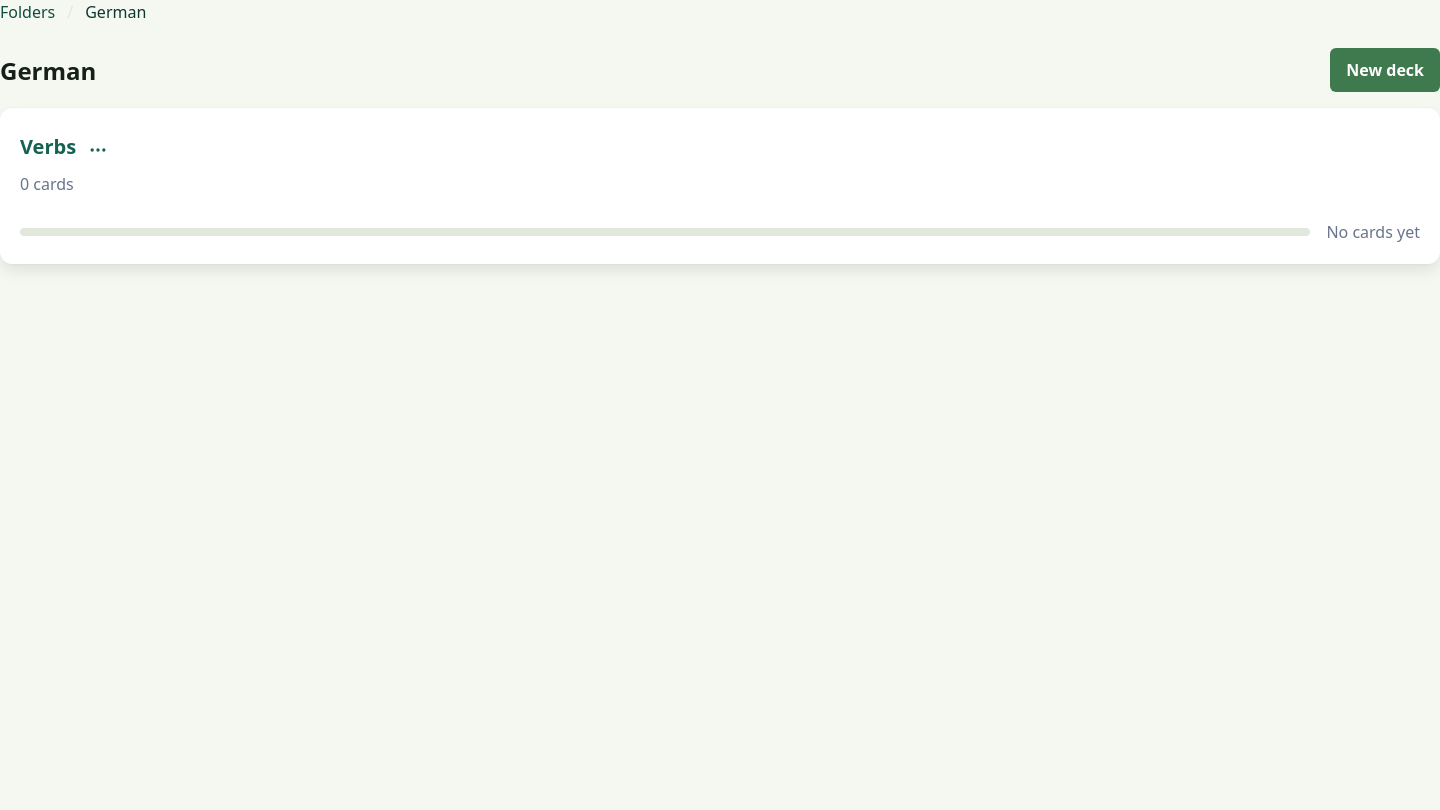
Scenario: FolderView › deletes the deck once the confirmation is accepted
This screenshot has width=1440, height=810.
Click the button with test id "deck-menu": coordinates (98, 150) x1=76 y1=128 x2=120 y2=172
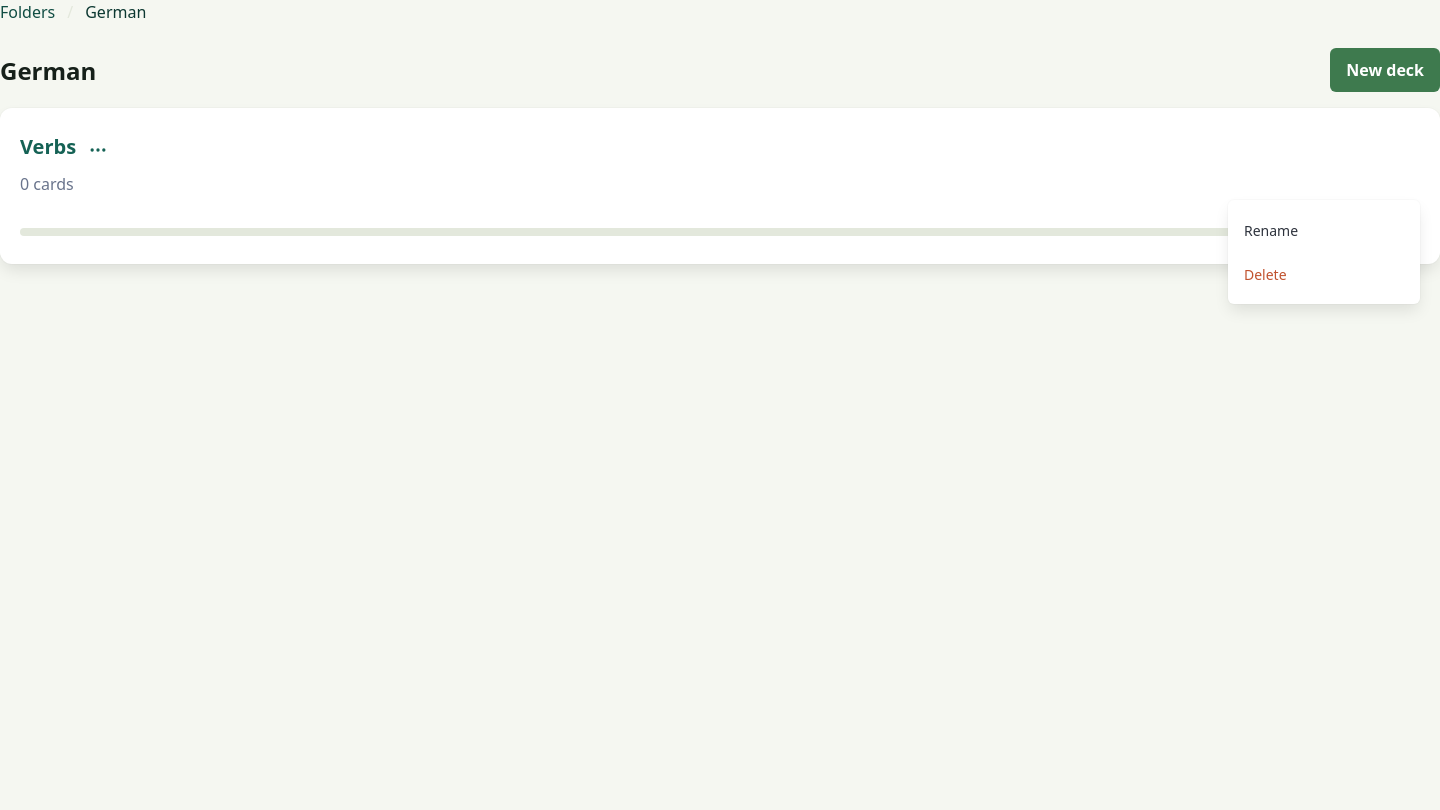
Click the button with test id "deck-delete": coordinates (1324, 274) x1=1228 y1=252 x2=1420 y2=296
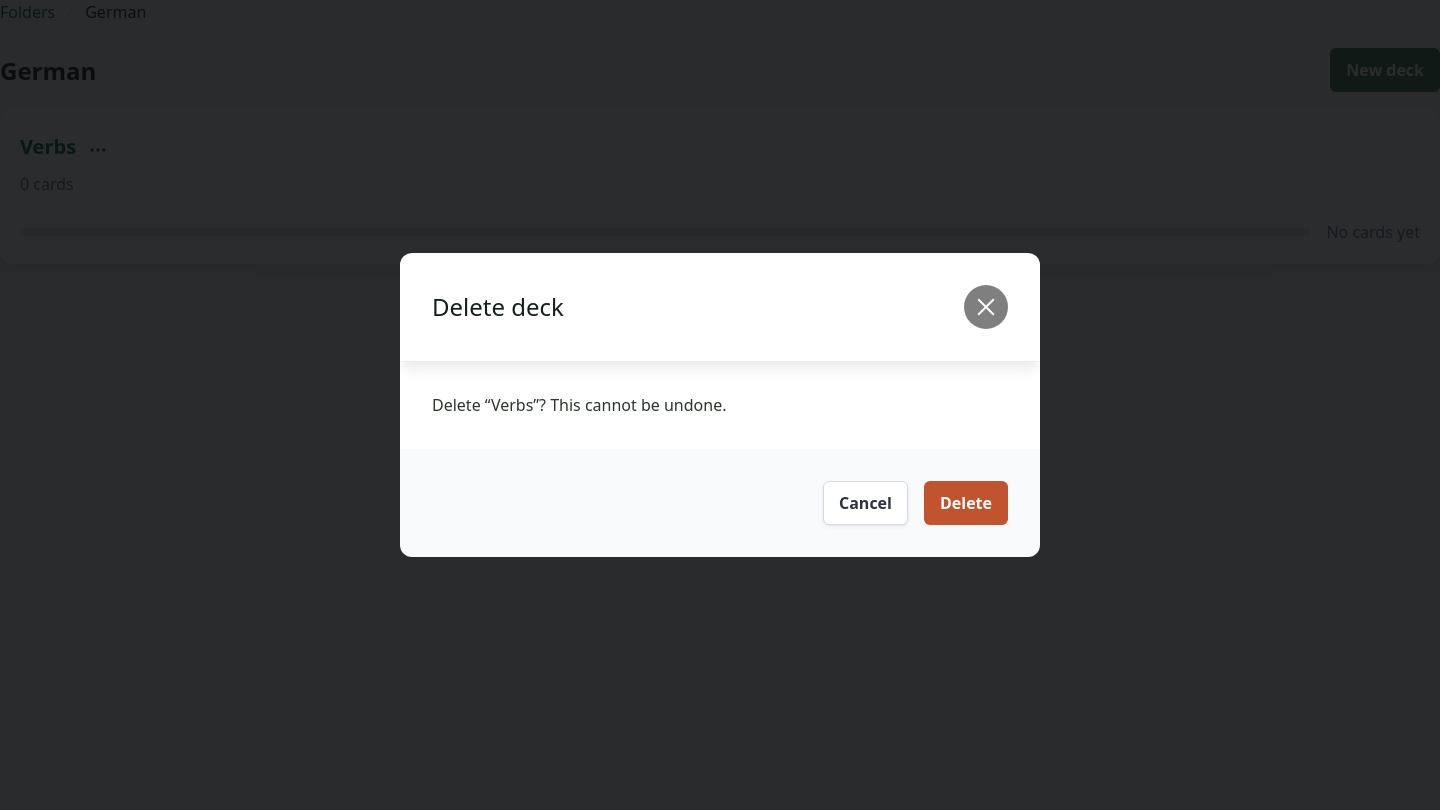
Click the button with test id "confirm-accept": coordinates (966, 503) x1=924 y1=481 x2=1008 y2=525
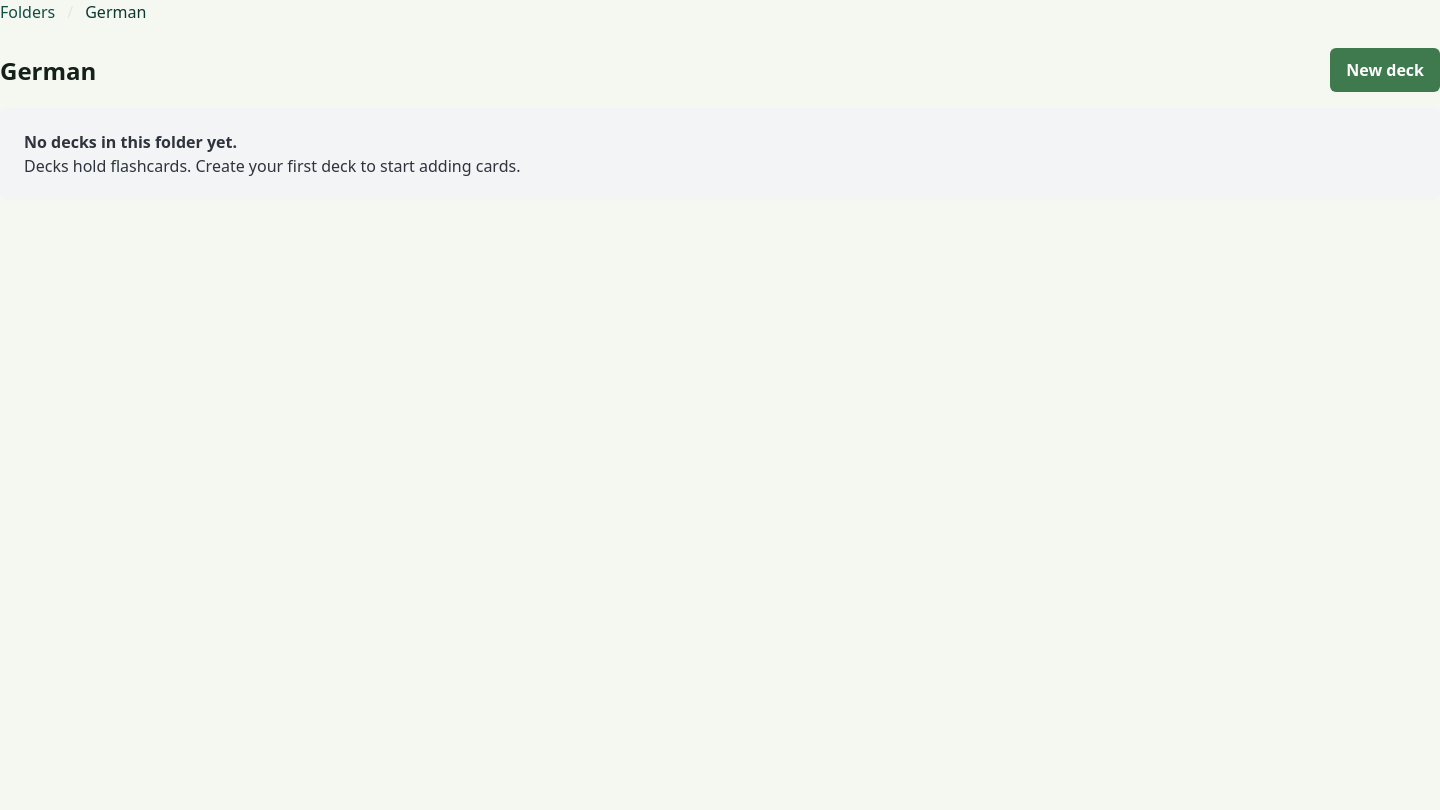
Expected: no elements with test id "deck-row" are shown
